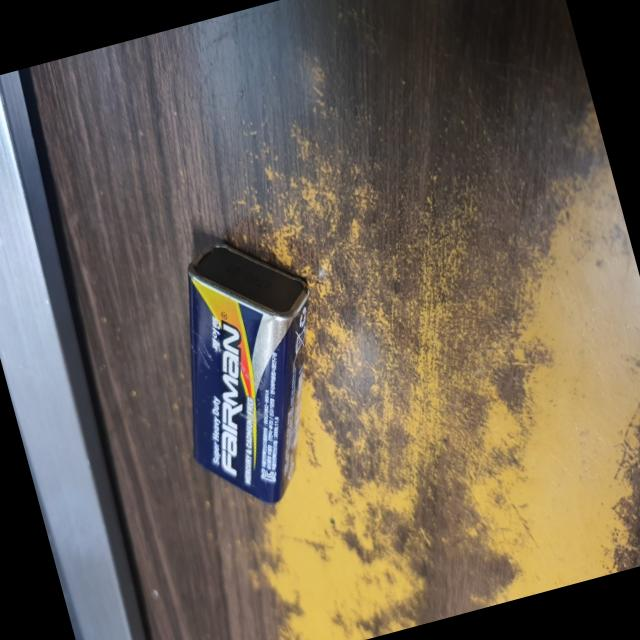battery-etc-etc: (134, 217, 362, 526)
